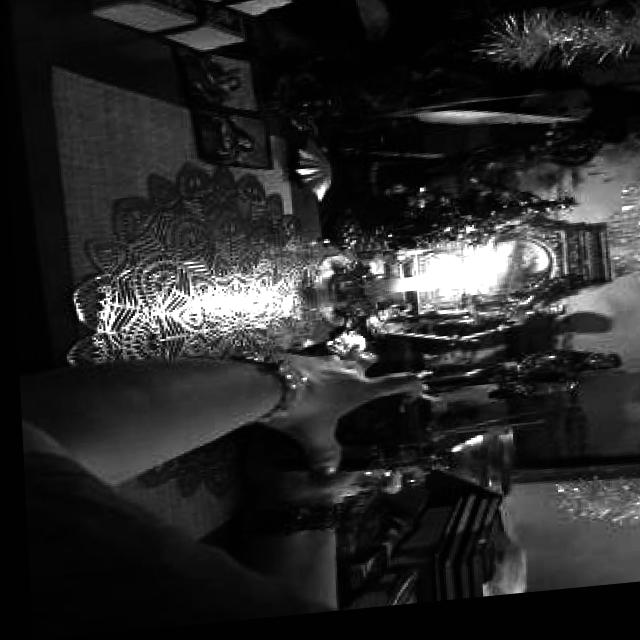Smoke: (432, 267, 494, 303)
